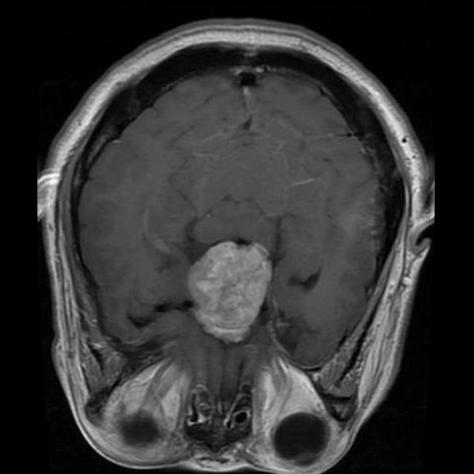Tumour-Pituitary: (190, 240, 274, 340)
